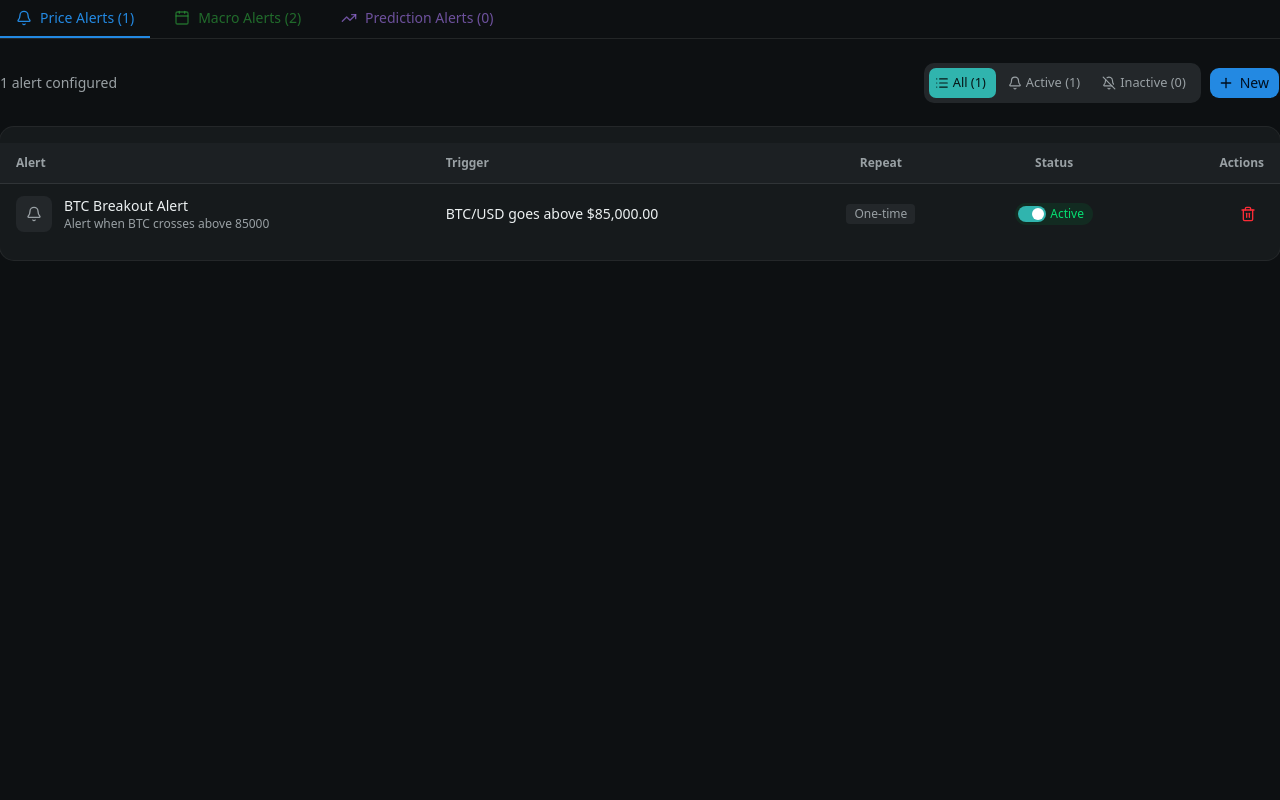
it: AlertManagement › creates the tab's own kind without asking for a type
Click the button with aria-label "New price alert" at (1244, 83), box [1209,67,1279,99]
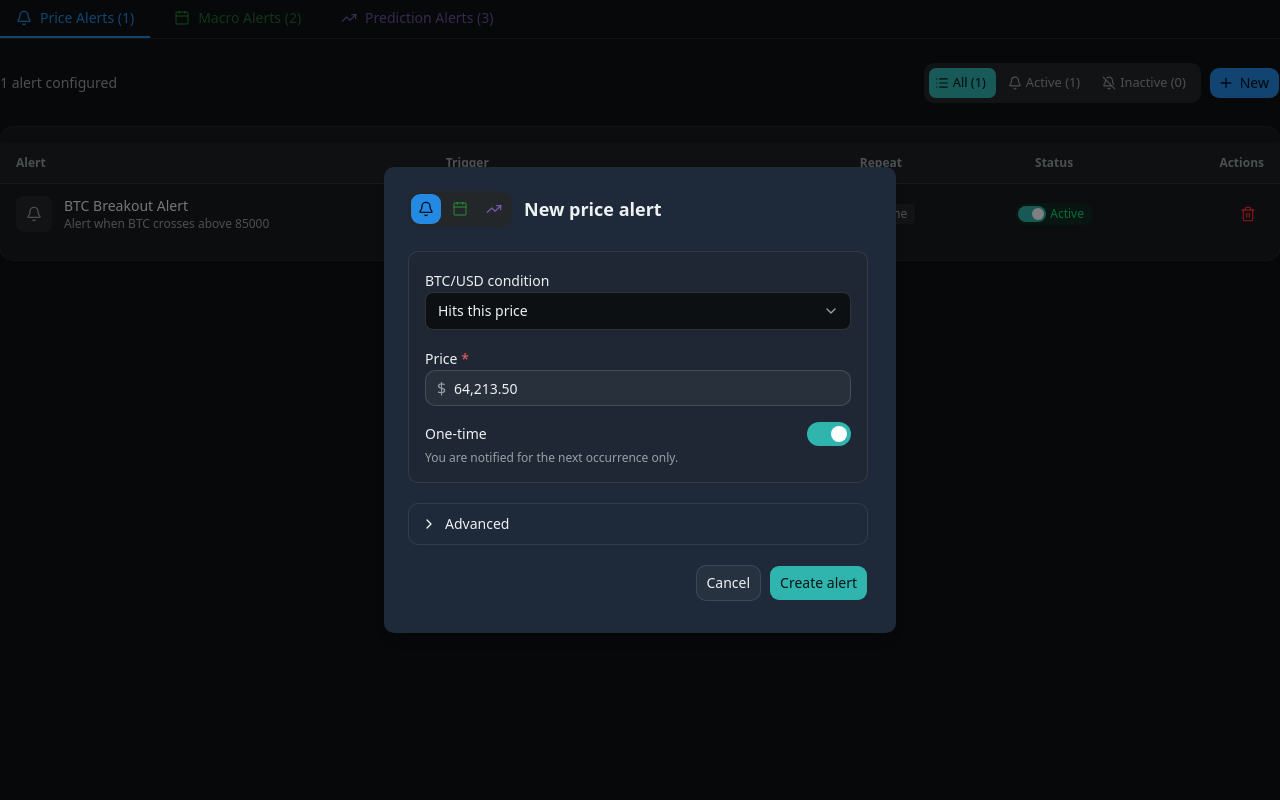
Expected: the heading "New price alert" is shown, [524,195,662,223]
